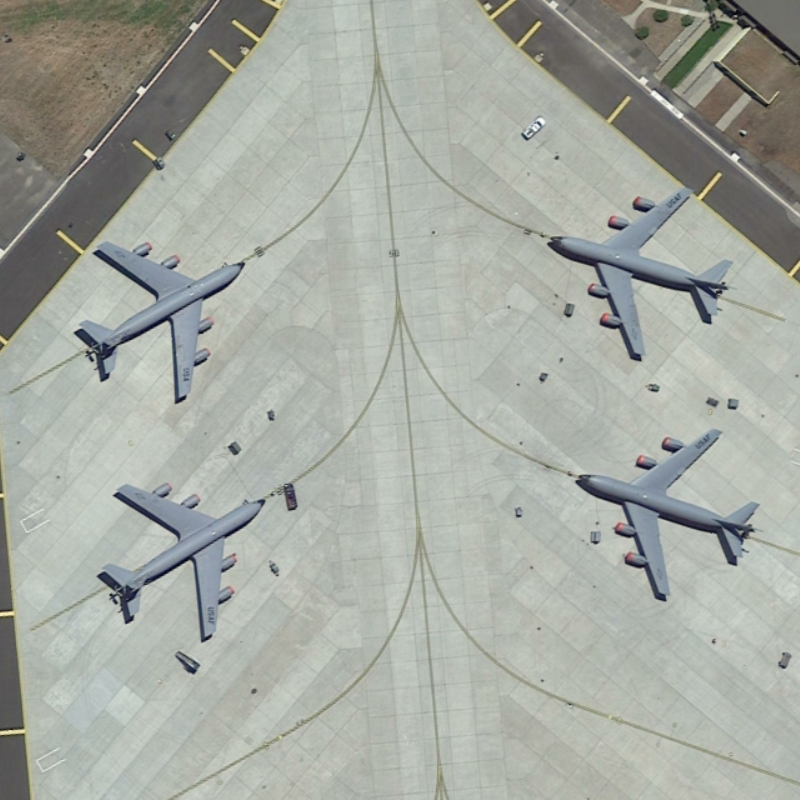A14: (548, 177, 750, 366), (573, 425, 766, 600), (94, 469, 279, 645), (72, 232, 254, 405)
